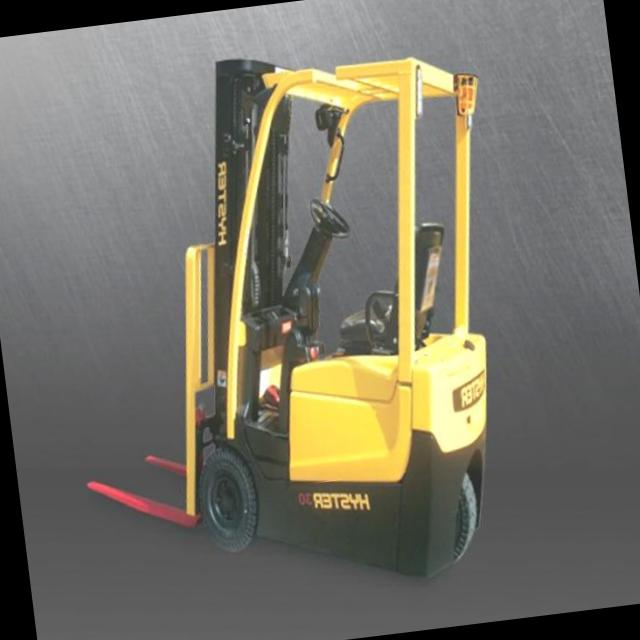forklift: (100, 0, 581, 623)
